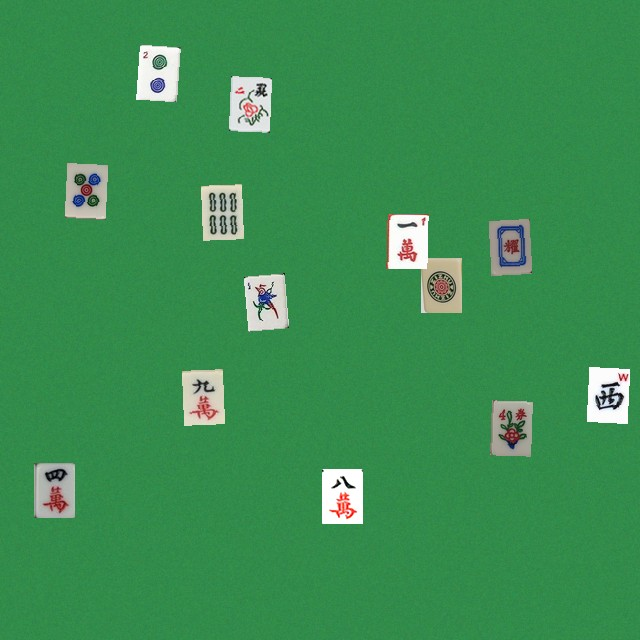tile: (490, 400, 531, 455), (420, 257, 461, 312), (243, 273, 284, 328), (586, 366, 627, 421), (386, 213, 427, 268), (64, 163, 105, 218), (488, 218, 529, 273), (181, 369, 222, 424), (200, 184, 241, 239), (228, 76, 269, 131), (136, 44, 177, 99), (33, 462, 74, 517), (321, 468, 362, 523)
